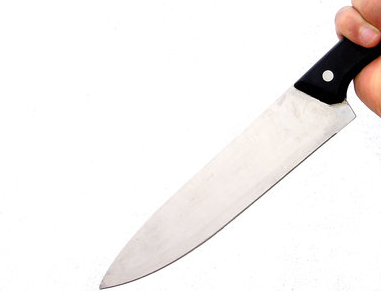knife: (95, 3, 381, 289)
